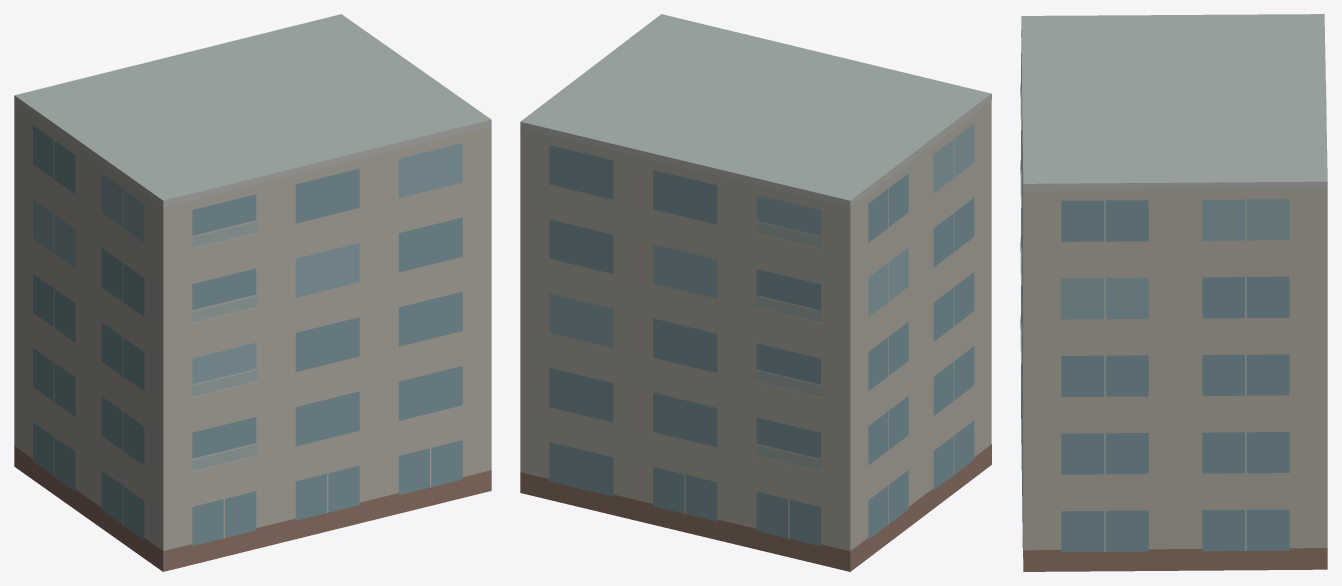
File: survey-upis-33044605.glb
The picture shows the model from 3 angles, left to right: view 1: azimuth 30°, elevation 25°; view 2: azimuth 150°, elevation 25°; view 3: azimuth 270°, elevation 25°; orthographic projection. The views are drawn at different scales.
Visible parts, largest first — view 1: survey-upis-33044605.tmp; view 2: survey-upis-33044605.tmp; view 3: survey-upis-33044605.tmp.
Part boxes in pixels (x1=…): survey-upis-33044605.tmp: x1=14, y1=14, x2=491, y2=571; survey-upis-33044605.tmp: x1=520, y1=14, x2=991, y2=571; survey-upis-33044605.tmp: x1=1020, y1=14, x2=1327, y2=571.
Size of the model in its own units: 12.4 by 13.2 by 9.49.
